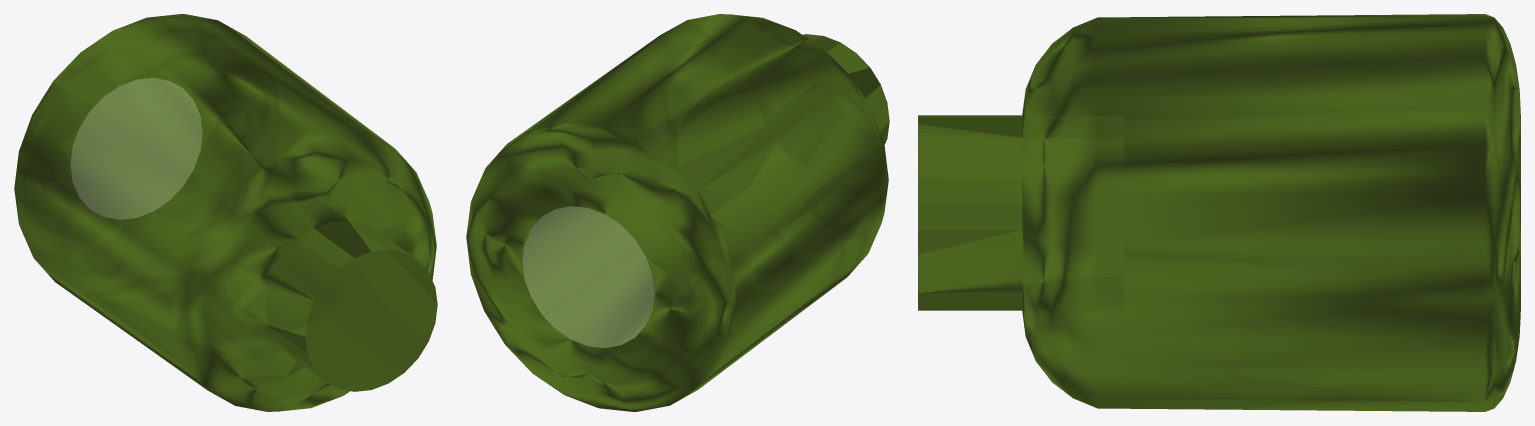
Rendered from model_align.obj.
The picture shows the model from 3 angles, left to right: view 1: azimuth 30°, elevation 25°; view 2: azimuth 150°, elevation 25°; view 3: azimuth 270°, elevation 25°; orthographic projection. The views are drawn at different scales.
Bounding box in the file's own units: 0.096 × 0.096 × 0.1448.
